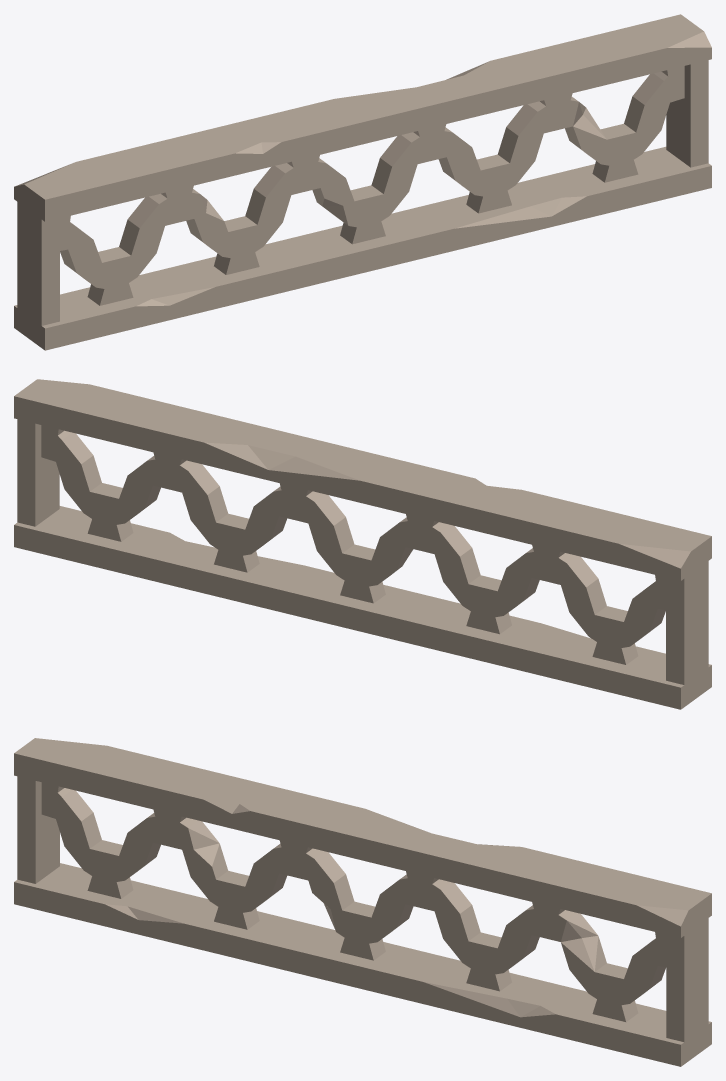
The model's file is SM_Bld_Decorative_Block_01.glb.
3 renders of one model, top to bottom at view 1: azimuth 30°, elevation 25°; view 2: azimuth 150°, elevation 25°; view 3: azimuth 330°, elevation 25°, orthographic.
Parts seen in each view (by area): view 1: SM_Bld_Decorative_Block_01; view 2: SM_Bld_Decorative_Block_01; view 3: SM_Bld_Decorative_Block_01.
Boxes of the visible parts, x1,y1,x2,y2 form: SM_Bld_Decorative_Block_01: (14, 14, 711, 350); SM_Bld_Decorative_Block_01: (14, 379, 711, 709); SM_Bld_Decorative_Block_01: (14, 738, 711, 1066).
Bounding box in the file's own units: 3.15 × 0.6811 × 0.2544.
1 material, 1 textured.
